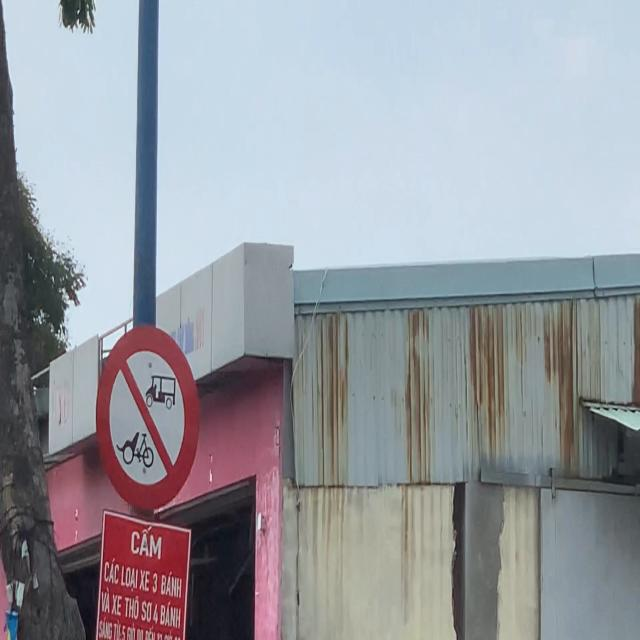Cam con lai: (92, 324, 202, 516)
